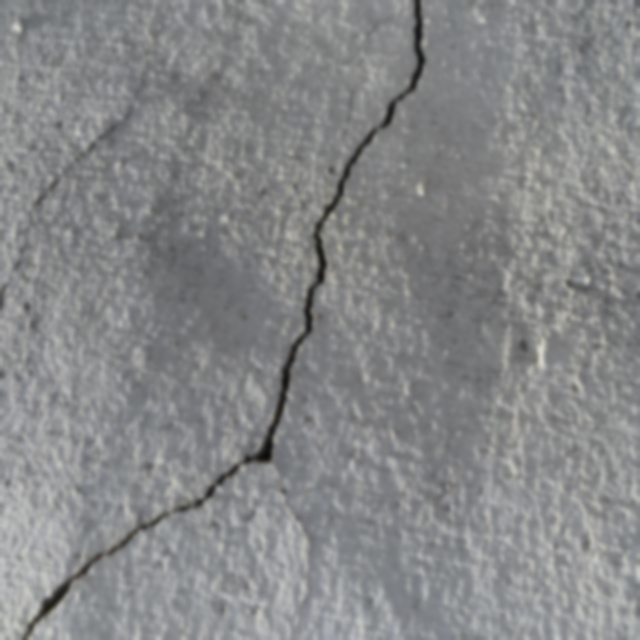SurfaceCrack: (1, 1, 499, 640)
